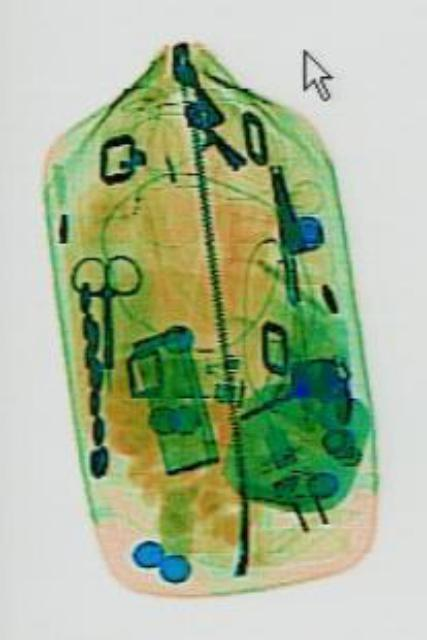Scissors: (66, 251, 142, 369)
